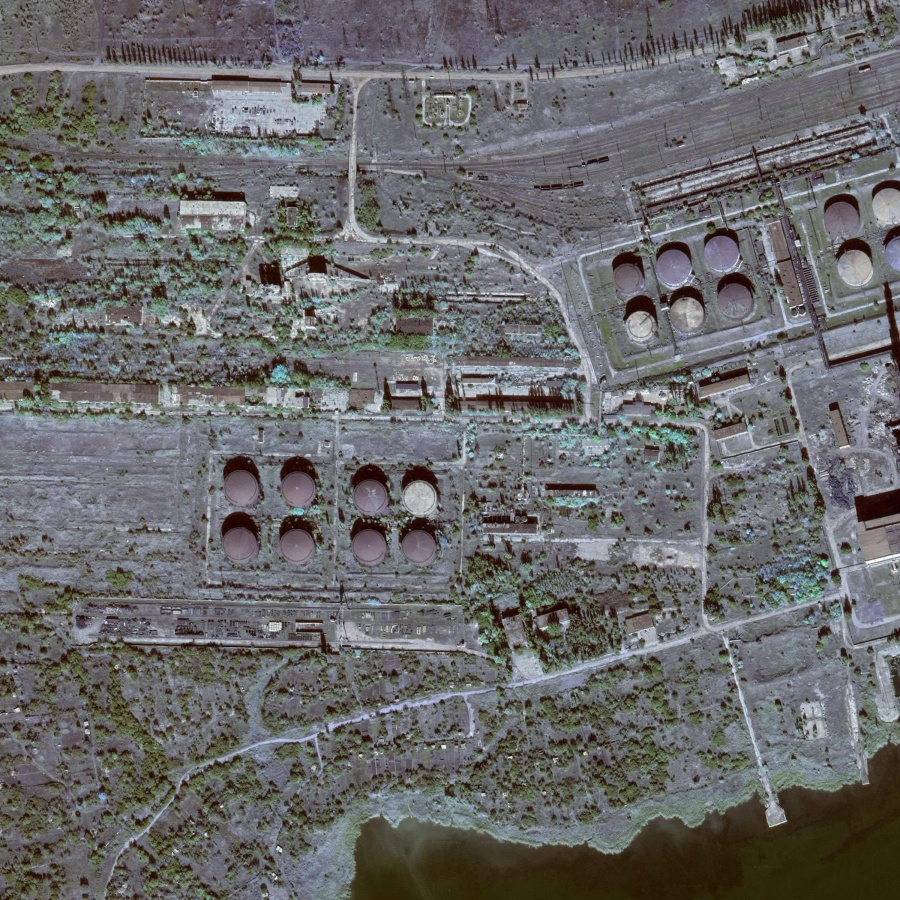PowerPlant: (188, 416, 458, 594), (574, 205, 782, 381)
